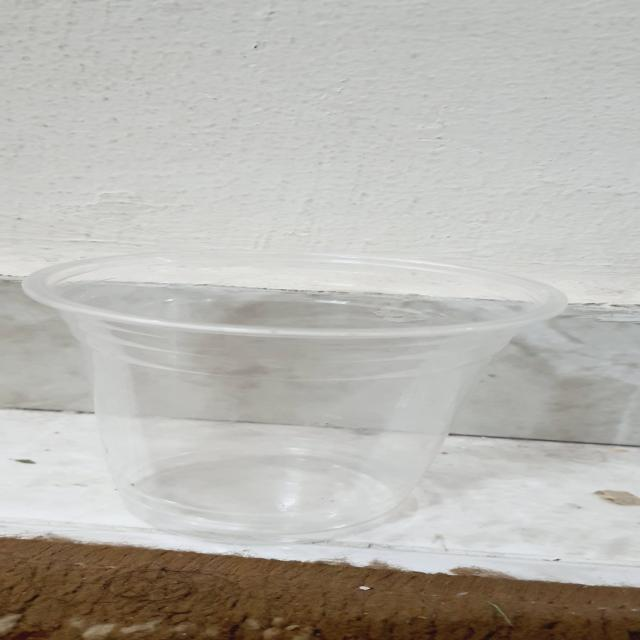plastic: (20, 248, 570, 544)
